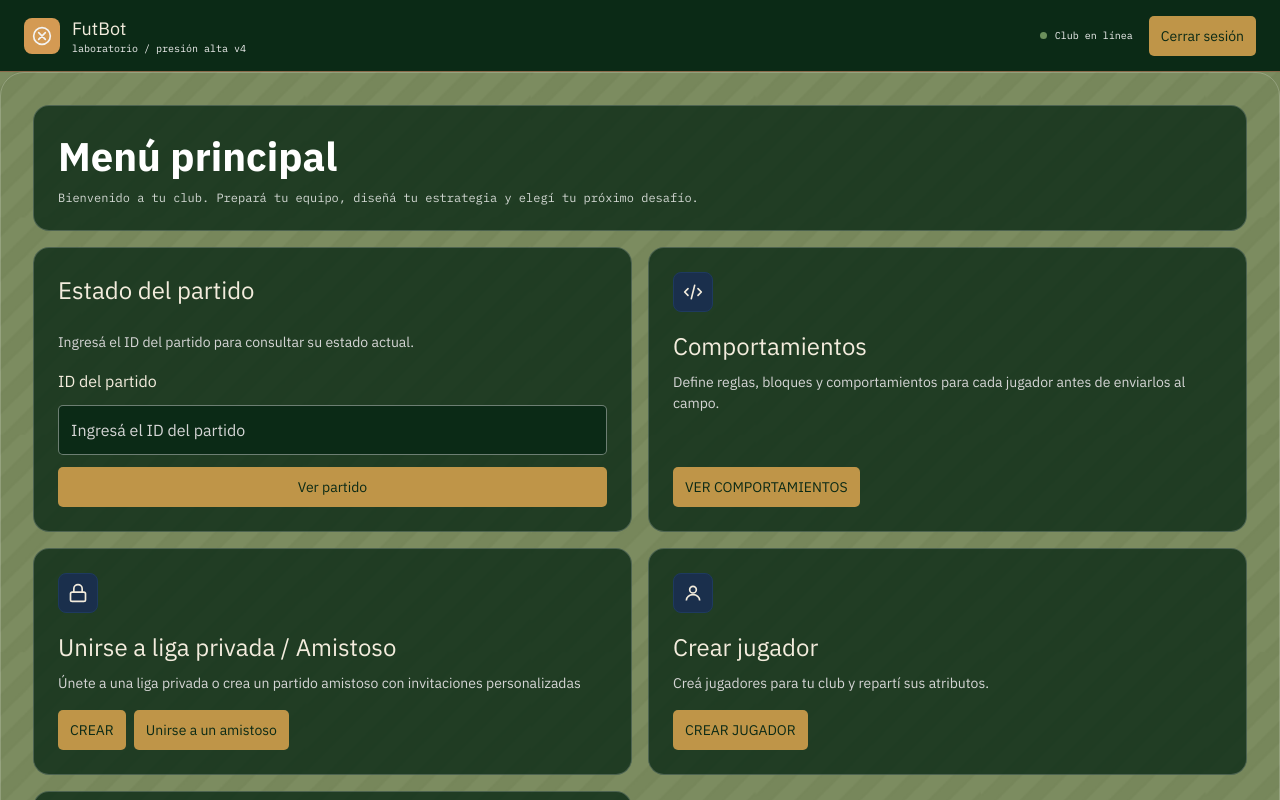
Test: abre el modal de creación de jugador desde la tarjeta de Home
Expected: the heading "Menú principal" is shown, [58,130,338,182]
Click the button "CREAR JUGADOR" at point(740, 730), box [673,710,808,750]
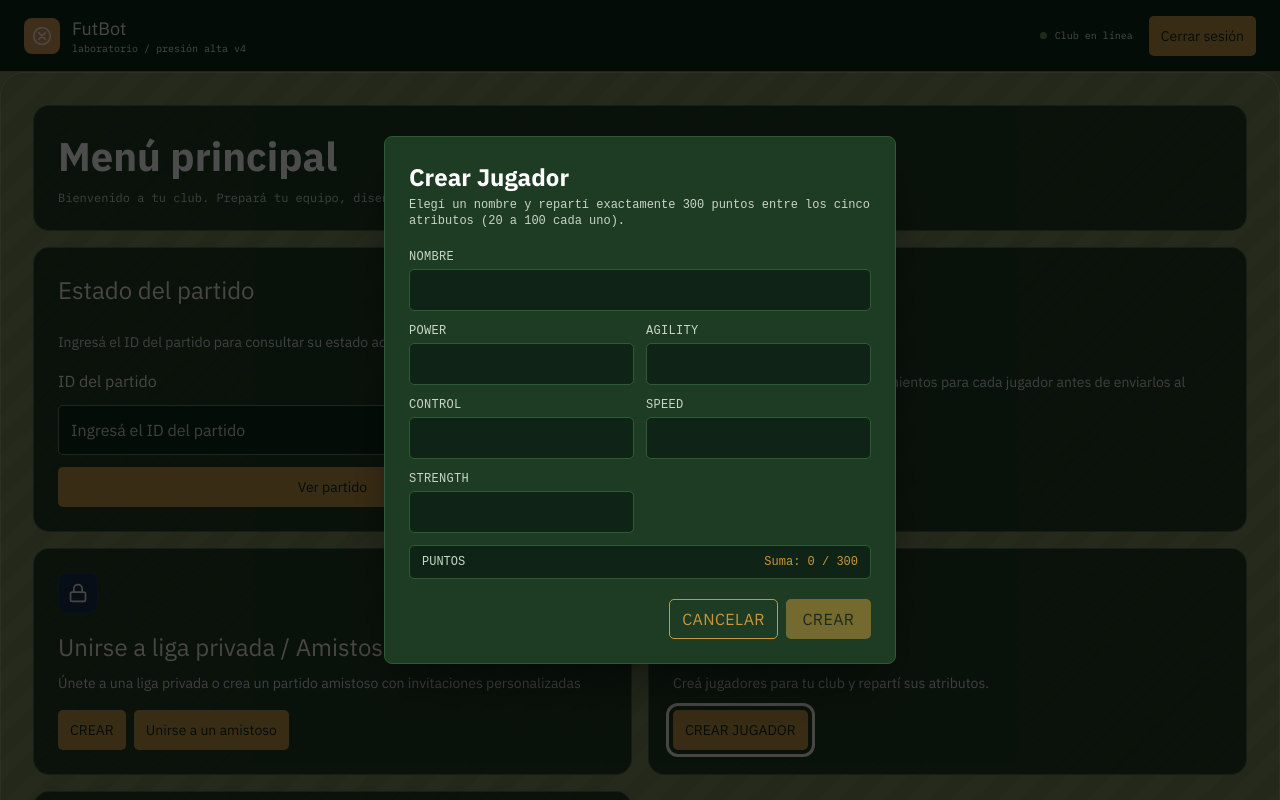
Now the dialog "Crear Jugador" is shown, box [384,136,896,664]
Now the field labelled "Nombre" is shown, box [409,269,871,311]
